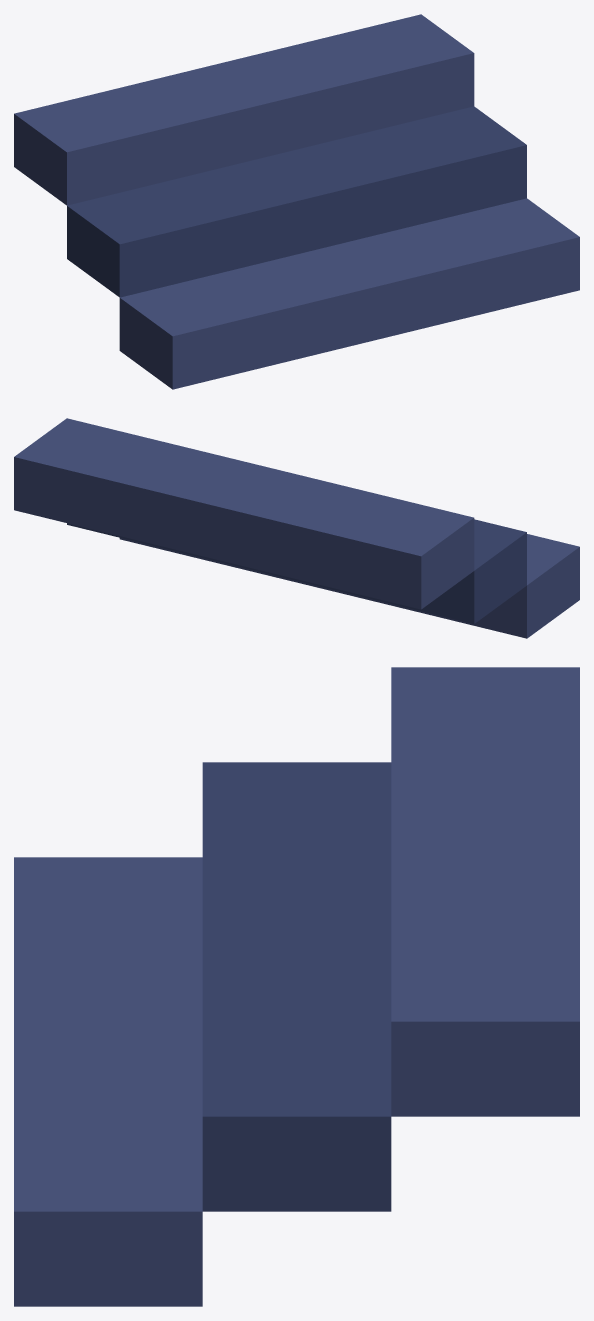
File: gradin.glb
3 renders of one model, top to bottom at view 1: azimuth 30°, elevation 25°; view 2: azimuth 150°, elevation 25°; view 3: azimuth 270°, elevation 25°, orthographic. The views are drawn at different scales.
Size of the model in its own units: 4 by 1.5 by 2.7.
